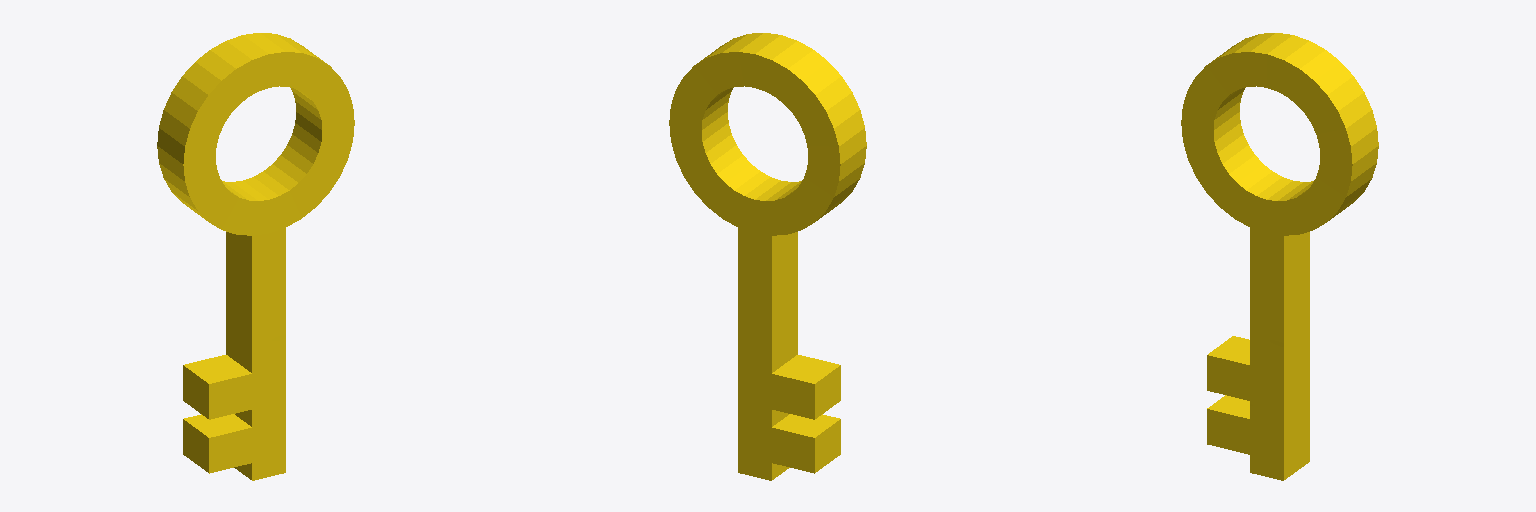
The picture shows the model from 3 angles: view 1: azimuth 30°, elevation 25°; view 2: azimuth 150°, elevation 25°; view 3: azimuth 330°, elevation 25°; orthographic projection.
Parts seen in each view (by area): view 1: 円柱; view 2: 円柱; view 3: 円柱.
Part boxes in pixels (left/top/right/bottom): 円柱: left=157, top=33, right=354, bottom=480; 円柱: left=669, top=33, right=866, bottom=480; 円柱: left=1181, top=33, right=1378, bottom=480.
Bounding box in the file's own units: 2 × 4.71 × 0.5305.
Materials: 1 (1 with a texture image).